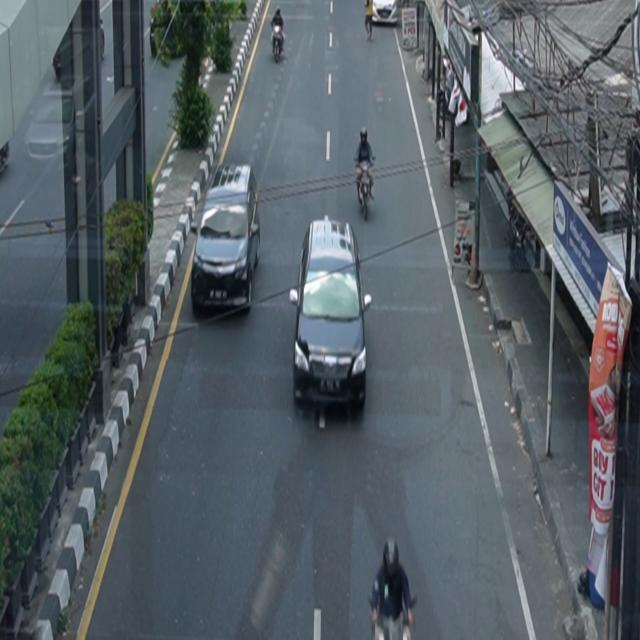car: (290, 215, 373, 413), (192, 163, 261, 315), (372, 1, 399, 27)
